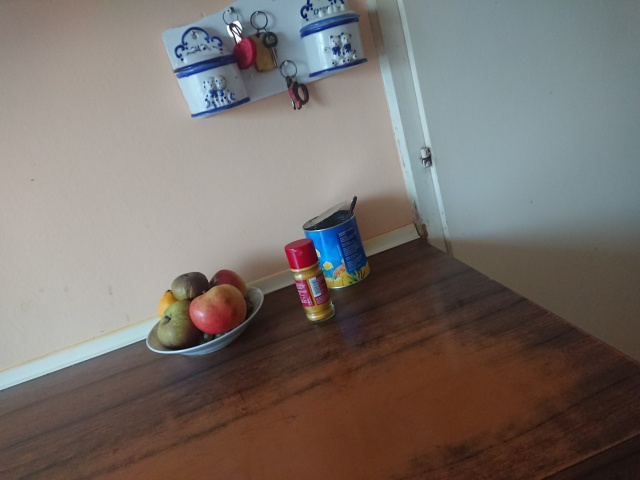Kotanyi Curry Spices Mix 70g: (283, 237, 336, 325)
